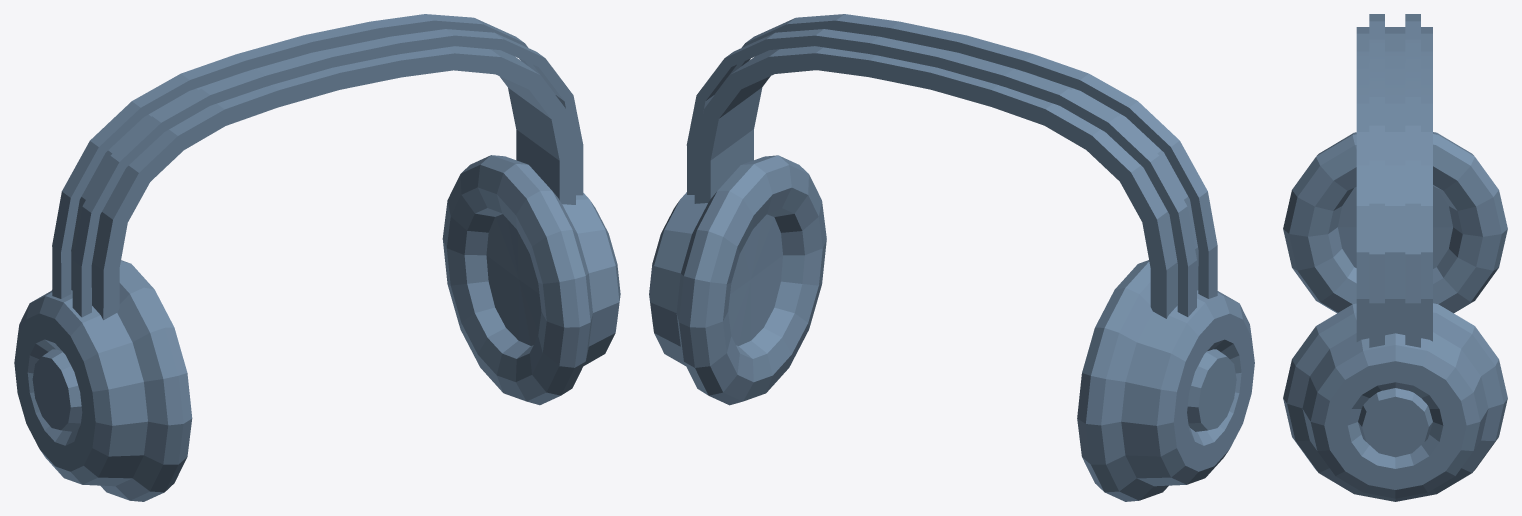
File: Hat_Headphones.fbx
3 views of the same model, side by side, from view 1: azimuth 30°, elevation 25°; view 2: azimuth 150°, elevation 25°; view 3: azimuth 270°, elevation 25° (orthographic). The views are drawn at different scales.
Parts seen in each view (by area): view 1: Hat_Headphones; view 2: Hat_Headphones; view 3: Hat_Headphones.
Part boxes in pixels (box(x1,y1,x2,y2)): Hat_Headphones: box(14, 14, 620, 501); Hat_Headphones: box(649, 14, 1254, 501); Hat_Headphones: box(1283, 14, 1507, 501).
Bounding box in the file's own units: 2.61 × 1.87 × 1.09.
